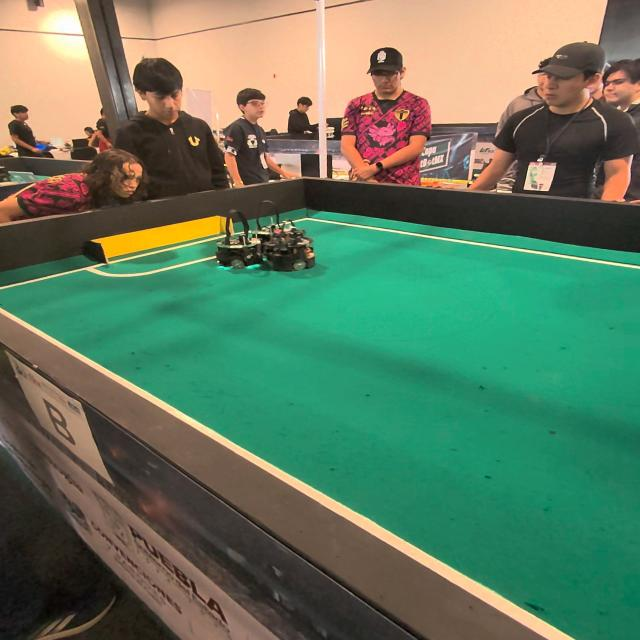Robot: (261, 214, 318, 274), (213, 204, 257, 274)
